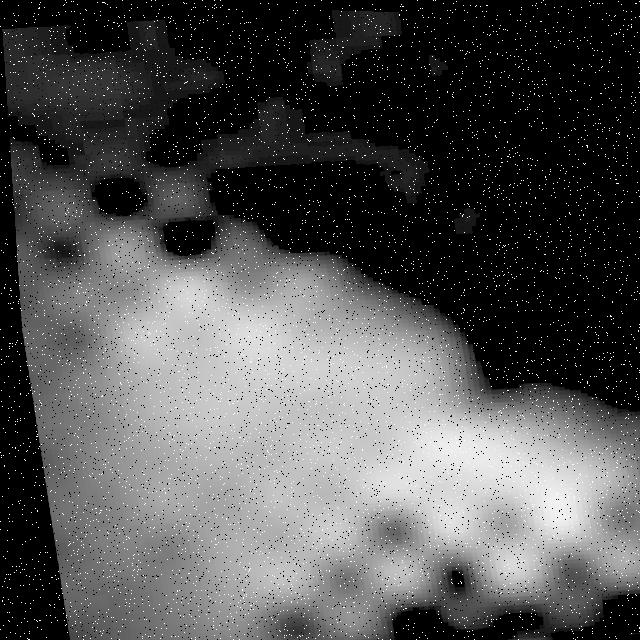person: (12, 175, 640, 640)
